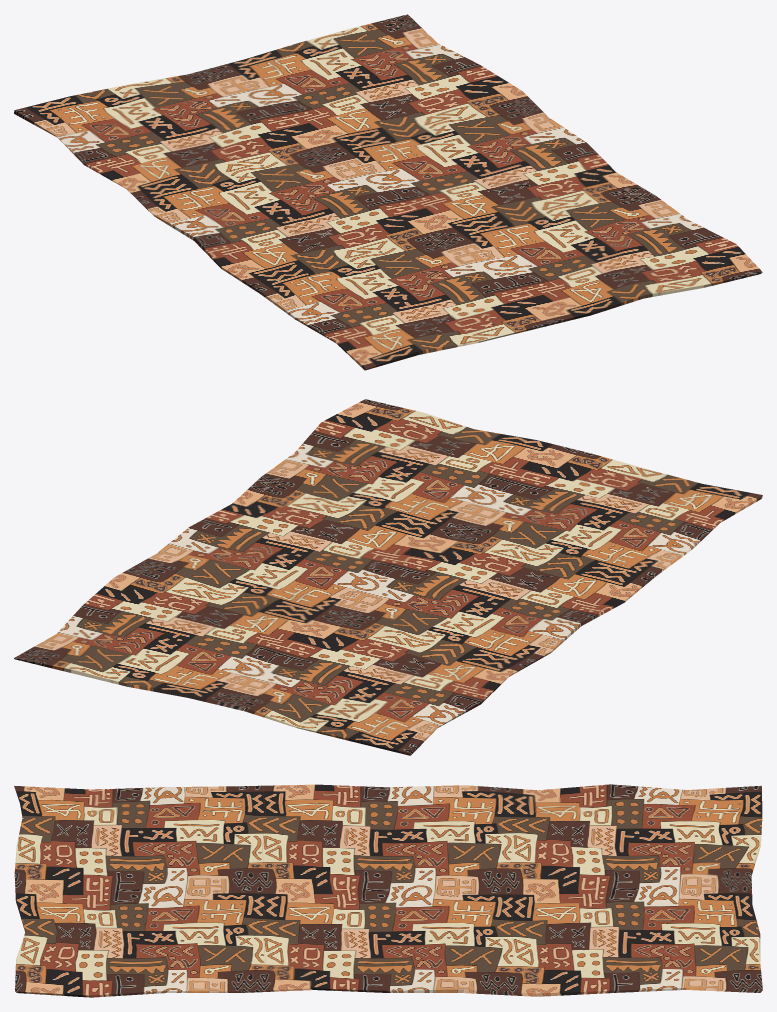
The model's file is carpetB.fbx.
3 renders of one model, top to bottom at view 1: azimuth 30°, elevation 25°; view 2: azimuth 150°, elevation 25°; view 3: azimuth 270°, elevation 25°, orthographic. The views are drawn at different scales.
Visible parts, largest first — view 1: Carpet1; view 2: Carpet1; view 3: Carpet1.
Part boxes in pixels (<box>): Carpet1: <box>14,14,762,370</box>; Carpet1: <box>14,399,762,755</box>; Carpet1: <box>14,784,762,997</box>.
Bounding box in the file's own units: 282 × 2.34 × 422.
Materials: 1 (1 with a texture image).
